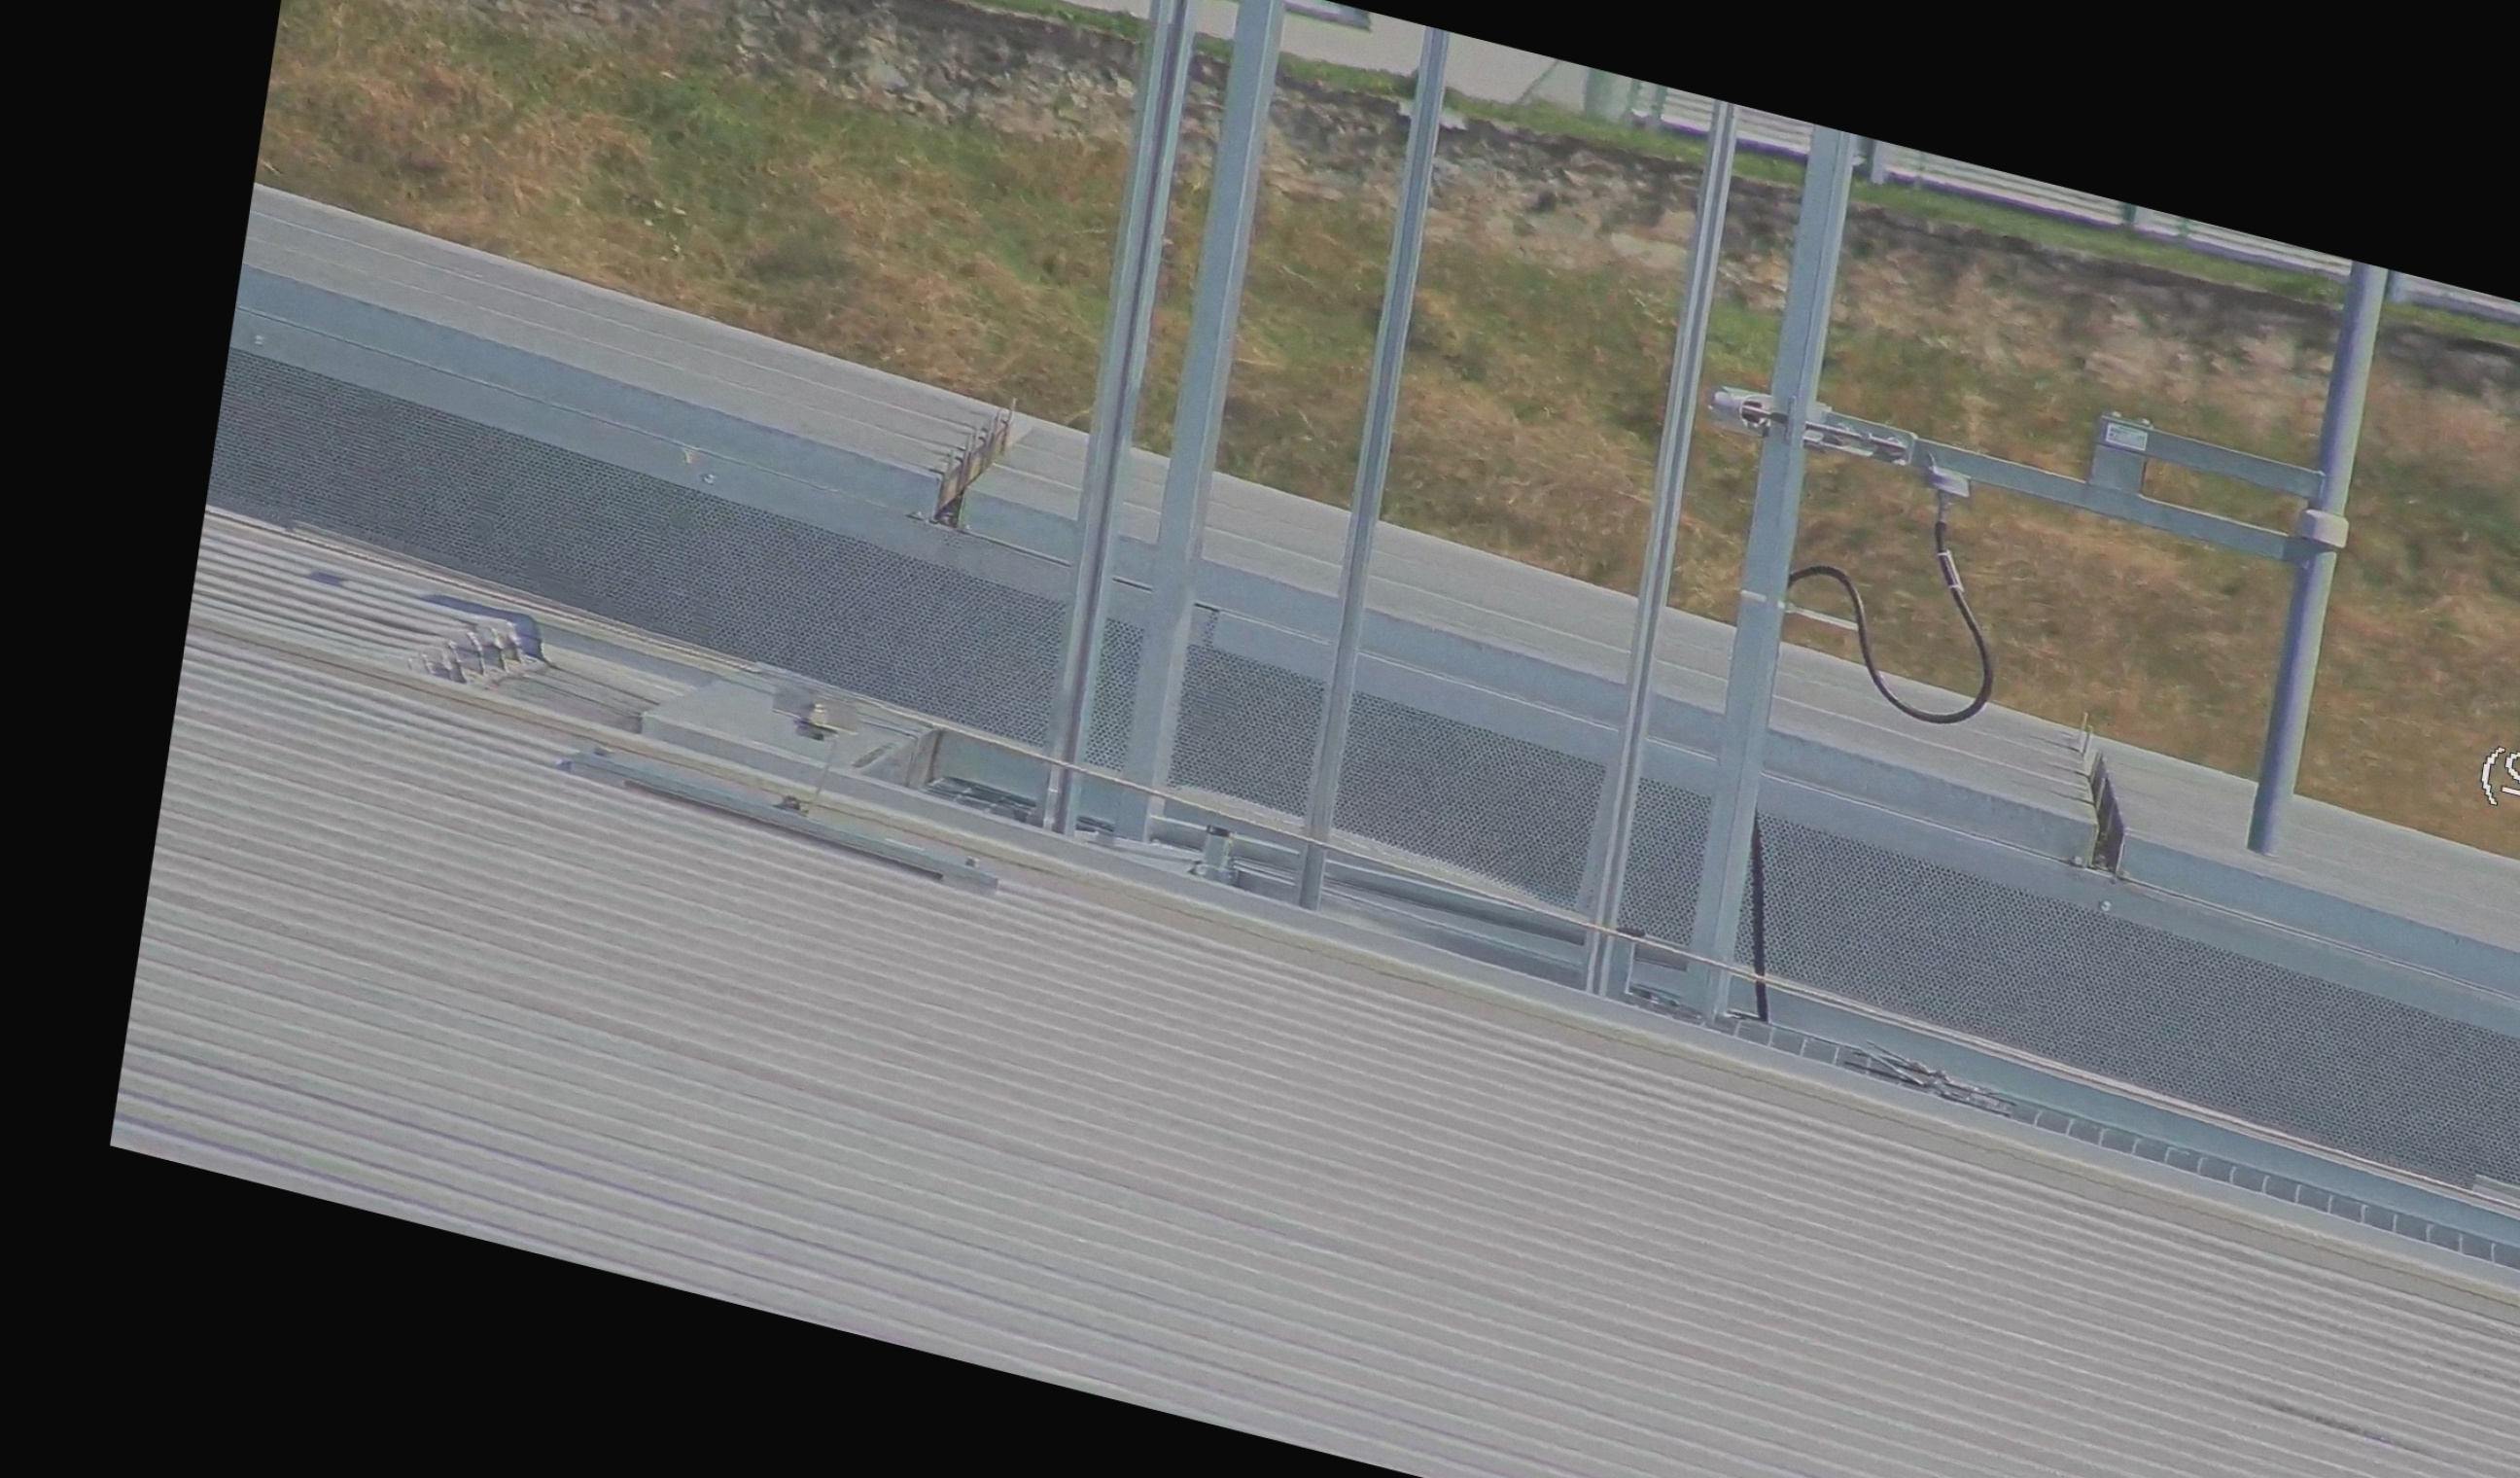Other: (2052, 723, 2161, 890)
